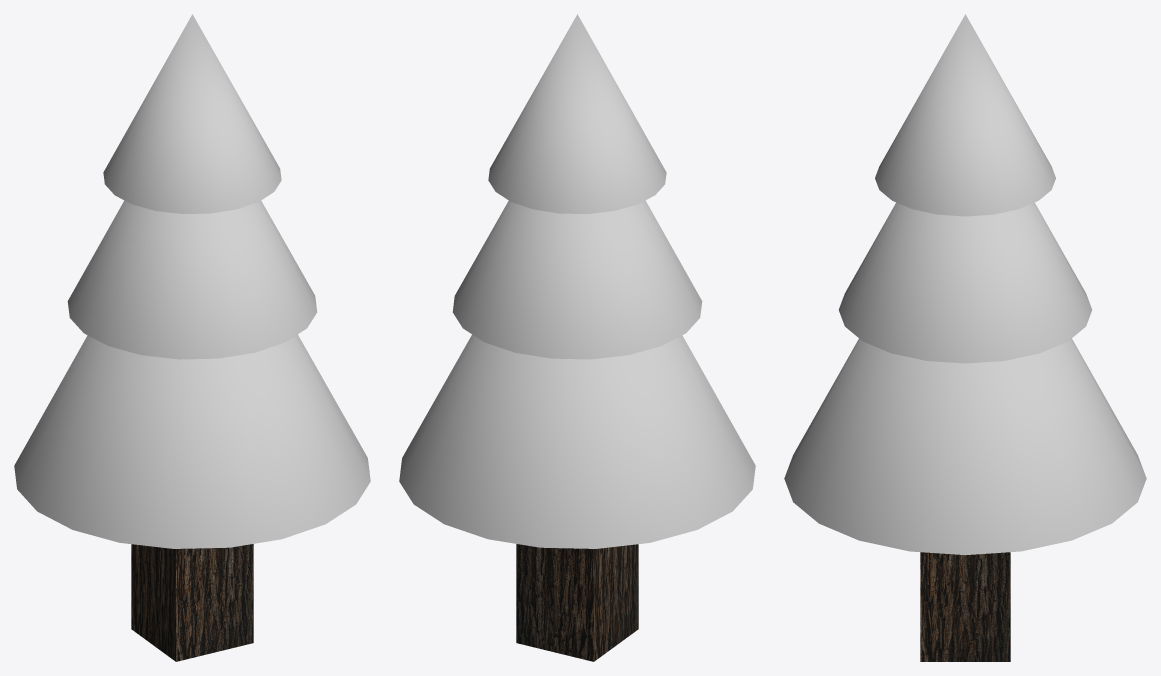
File: tree1.fbx
The picture shows the model from 3 angles, left to right: view 1: azimuth 30°, elevation 25°; view 2: azimuth 150°, elevation 25°; view 3: azimuth 270°, elevation 25°; orthographic projection.
Visible parts, largest first — view 1: Tree; view 2: Tree; view 3: Tree.
Boxes of the visible parts, box(x1,y1,x2,y2) form: Tree: box(14, 14, 370, 661); Tree: box(399, 14, 755, 661); Tree: box(784, 14, 1146, 661).
Bounding box in the file's own units: 20000 × 38290 × 20000.
